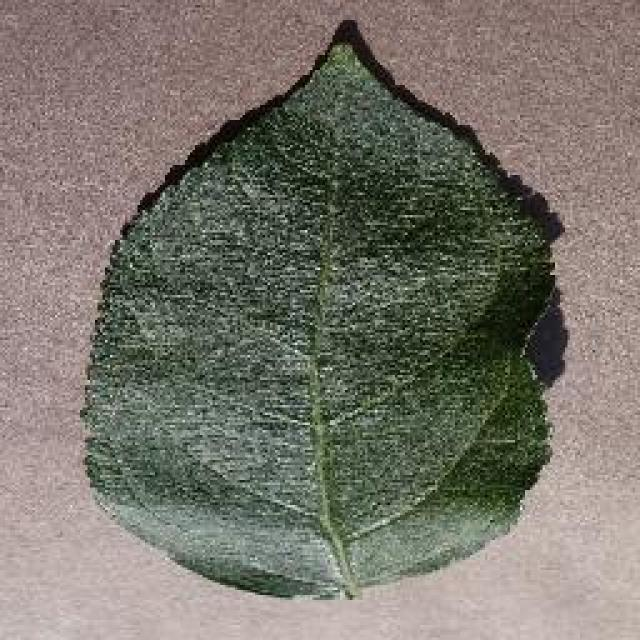apple healthy: (77, 18, 565, 600)
